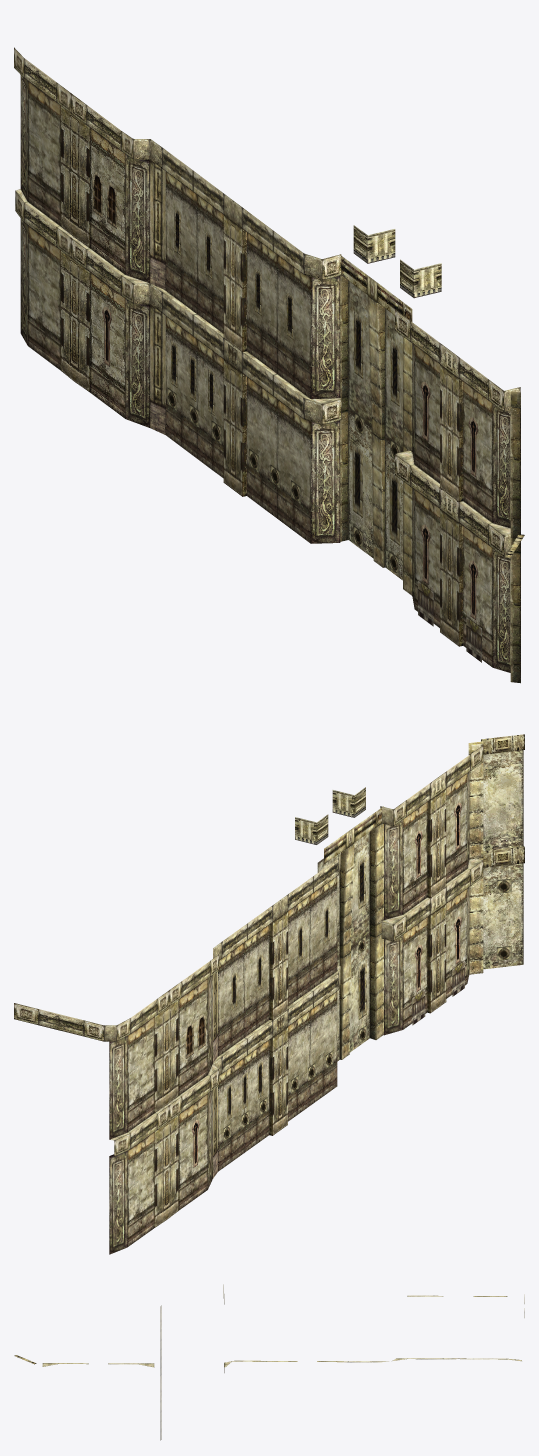
File: OZ_09_wv_bldg01EF.glb
3 renders of one model, top to bottom at view 1: azimuth 30°, elevation 25°; view 2: azimuth 150°, elevation 25°; view 3: azimuth 270°, elevation 25°, orthographic. The views are drawn at different scales.
Visible parts, largest first — view 1: OM_09_wv_bldg01EF; view 2: OM_09_wv_bldg01EF; view 3: OM_09_wv_bldg01EF.
Part boxes in pixels (left/top/right/bottom): OM_09_wv_bldg01EF: left=14, top=47, right=524, bottom=683; OM_09_wv_bldg01EF: left=14, top=734, right=524, bottom=1254; OM_09_wv_bldg01EF: left=14, top=1284, right=524, bottom=1440.
Size of the model in its own units: 4.99 by 11.03 by 32.01.
Materials: 8 (8 with a texture image).
